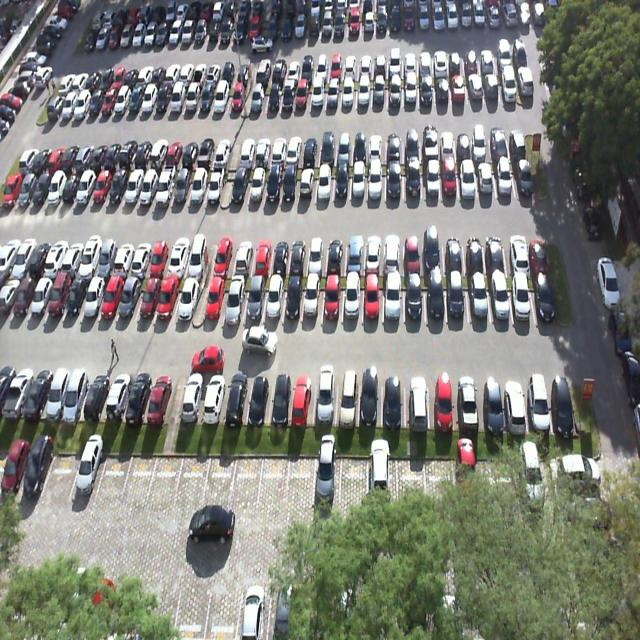empty: (94, 444, 132, 502), (123, 442, 157, 501), (43, 444, 79, 498), (148, 444, 182, 499), (230, 451, 264, 504), (544, 370, 576, 426), (175, 445, 209, 496), (204, 448, 238, 499), (223, 370, 254, 424), (259, 448, 291, 500), (312, 451, 342, 506), (21, 446, 55, 494), (499, 373, 527, 431), (64, 367, 92, 421), (523, 370, 549, 428), (117, 271, 145, 323), (476, 372, 502, 428), (82, 370, 111, 420), (288, 449, 314, 504), (136, 267, 162, 321), (428, 375, 454, 429), (106, 371, 134, 421), (222, 272, 248, 325), (452, 374, 478, 427), (268, 373, 294, 425), (153, 274, 180, 324), (312, 372, 336, 428), (127, 370, 153, 420), (202, 370, 228, 420), (246, 372, 272, 422), (262, 270, 286, 324), (148, 374, 175, 422), (359, 370, 382, 426), (405, 374, 429, 427), (174, 272, 198, 324), (530, 270, 556, 318), (101, 270, 125, 321), (240, 274, 264, 324), (334, 372, 358, 422), (290, 372, 313, 424), (486, 273, 511, 320), (181, 373, 206, 419), (382, 371, 404, 423), (442, 226, 466, 273), (483, 227, 507, 274), (205, 273, 225, 327), (130, 236, 156, 276), (525, 229, 549, 272), (113, 238, 140, 276), (505, 227, 527, 273), (148, 236, 172, 278), (303, 276, 324, 324), (467, 274, 488, 322), (167, 238, 193, 276), (509, 276, 531, 320), (444, 277, 467, 319), (188, 238, 212, 278), (424, 228, 444, 276), (282, 276, 302, 324), (155, 165, 177, 207), (172, 165, 194, 207), (188, 164, 210, 206), (139, 164, 162, 204), (511, 156, 534, 196), (404, 226, 424, 272), (322, 277, 342, 323), (363, 276, 383, 322), (404, 274, 424, 320), (426, 276, 446, 322), (230, 163, 252, 204), (382, 231, 404, 272), (464, 228, 484, 273), (204, 166, 226, 206), (287, 234, 309, 274), (344, 231, 364, 275), (229, 238, 251, 276), (384, 276, 402, 322), (213, 239, 235, 276), (251, 235, 273, 272), (268, 236, 290, 273), (345, 275, 362, 321), (307, 234, 327, 273), (324, 235, 344, 273), (282, 163, 300, 204), (364, 235, 383, 273), (478, 158, 496, 198), (458, 162, 478, 197), (494, 160, 514, 195), (299, 166, 317, 204), (368, 162, 386, 200), (250, 166, 268, 203), (332, 165, 350, 202), (267, 166, 283, 207), (403, 163, 421, 197), (422, 163, 440, 197), (440, 162, 458, 194), (388, 162, 403, 200), (316, 166, 332, 201), (351, 164, 367, 198)
occupied: (70, 446, 106, 500)
